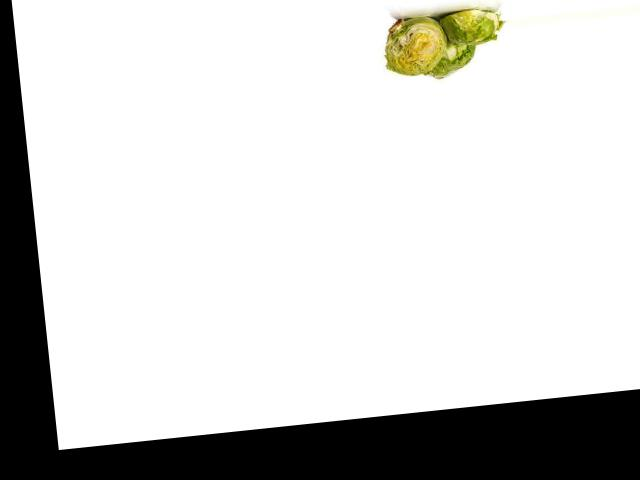lettuce: (414, 33, 484, 83)
